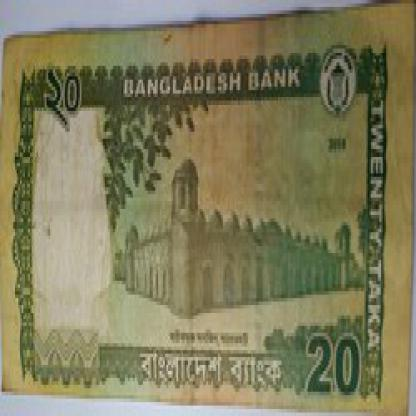Twenty: (306, 319, 363, 412), (35, 52, 93, 139)
